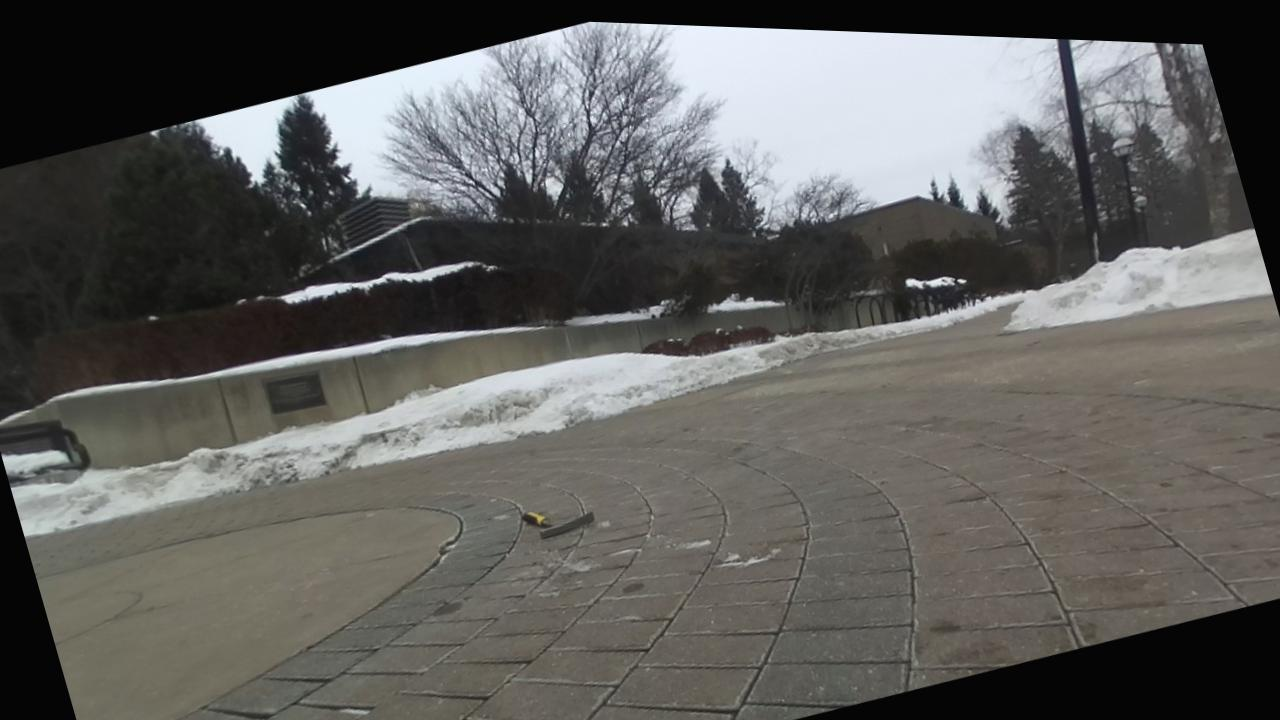pick: (523, 511, 594, 538)
